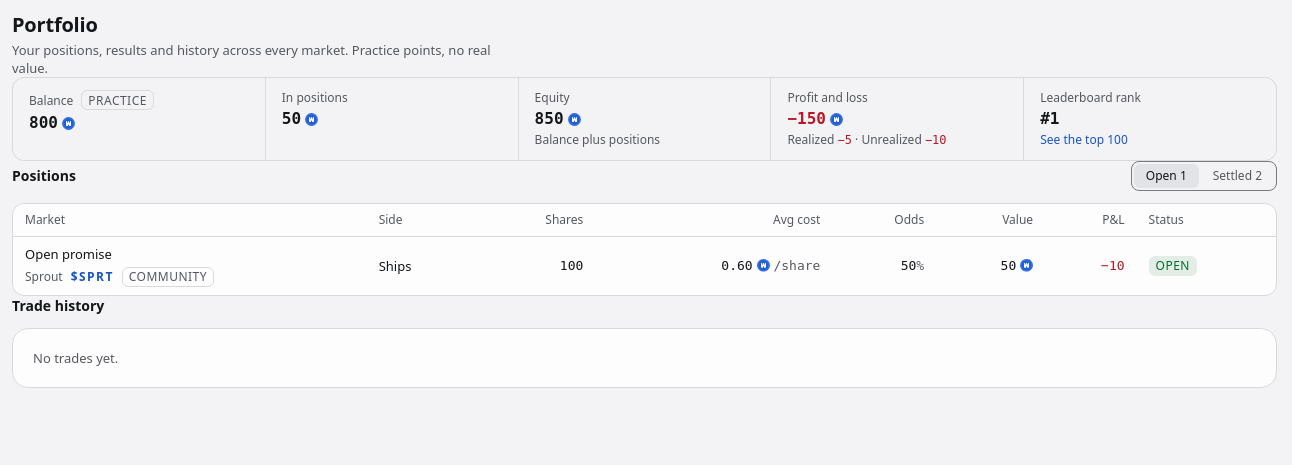
Test: portfolio: from the api › lists open positions by default and settled ones behind the filter, each linking to its market
expect the text "Ships" is shown: met, box [367,236,476,295]
expect the text "0.60" is shown: met, box [721,257,753,275]
Click the radio button labelled "Settled 2". click: x=1237, y=176
box: [1201,164,1274,188]
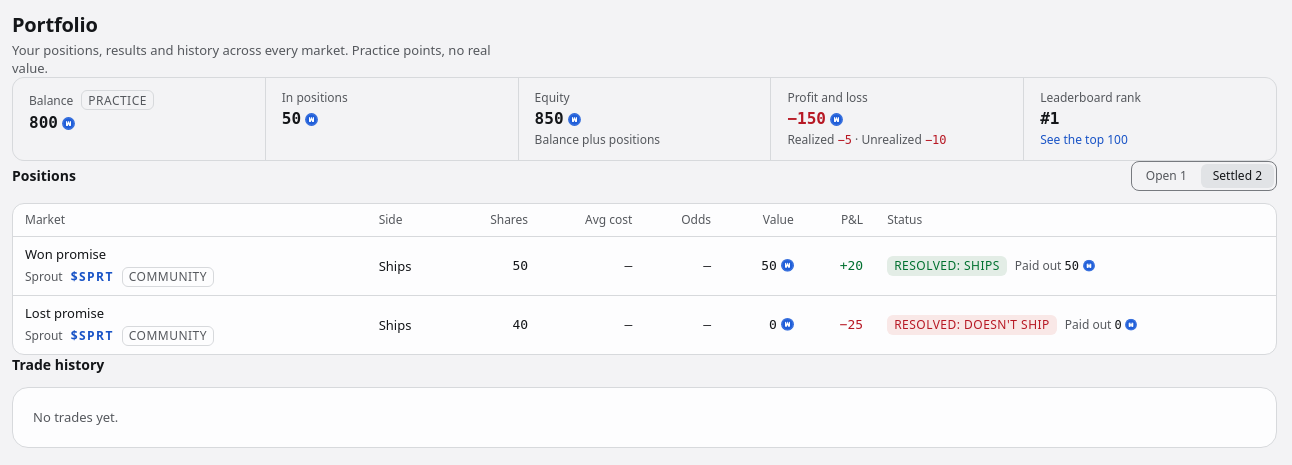
expect the text "+20" is shown: met, box [840,258,863,273]
expect the text "Resolved: Ships" is shown: met, box [887,256,1007,276]
expect the element showing "Paid out 50" is shown: met, box [1015,258,1095,274]
